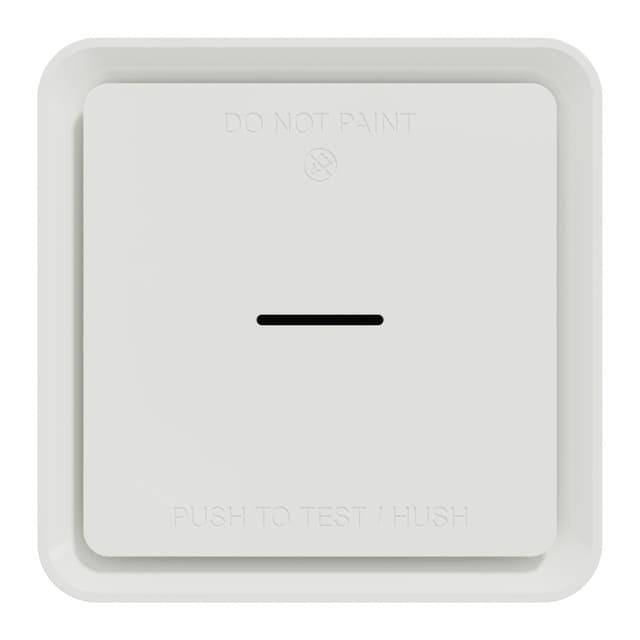Smoke-Detector: (30, 34, 614, 606)
